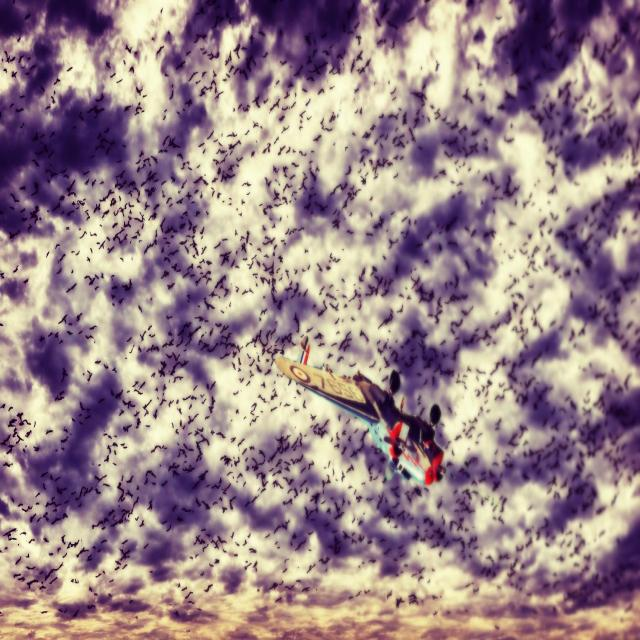airplane: (275, 334, 446, 490)
